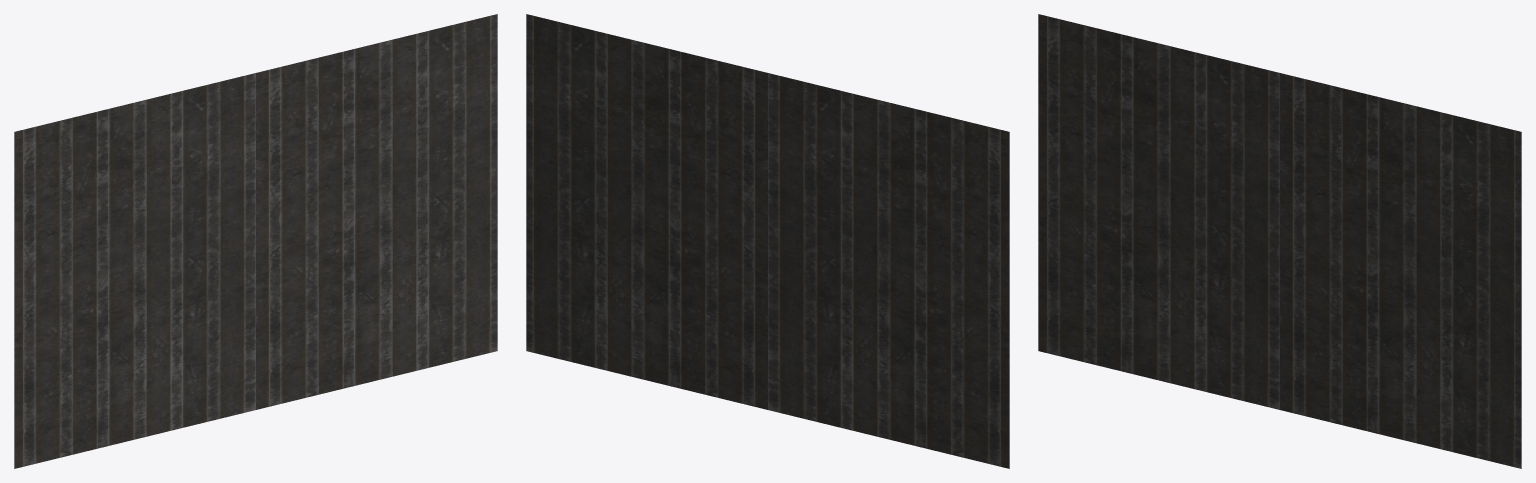
Rendered from doorframe_small_top.fbx.
3 renders of one model, left to right at view 1: azimuth 30°, elevation 25°; view 2: azimuth 150°, elevation 25°; view 3: azimuth 330°, elevation 25°, orthographic.
Parts seen in each view (by area): view 1: doorframe_small_top; view 2: doorframe_small_top; view 3: doorframe_small_top.
Boxes of the visible parts, <box> form: doorframe_small_top: <box>14,14,497,468</box>; doorframe_small_top: <box>526,14,1009,468</box>; doorframe_small_top: <box>1038,14,1521,468</box>.
Size of the model in its own units: 600 by 400 by 0.
